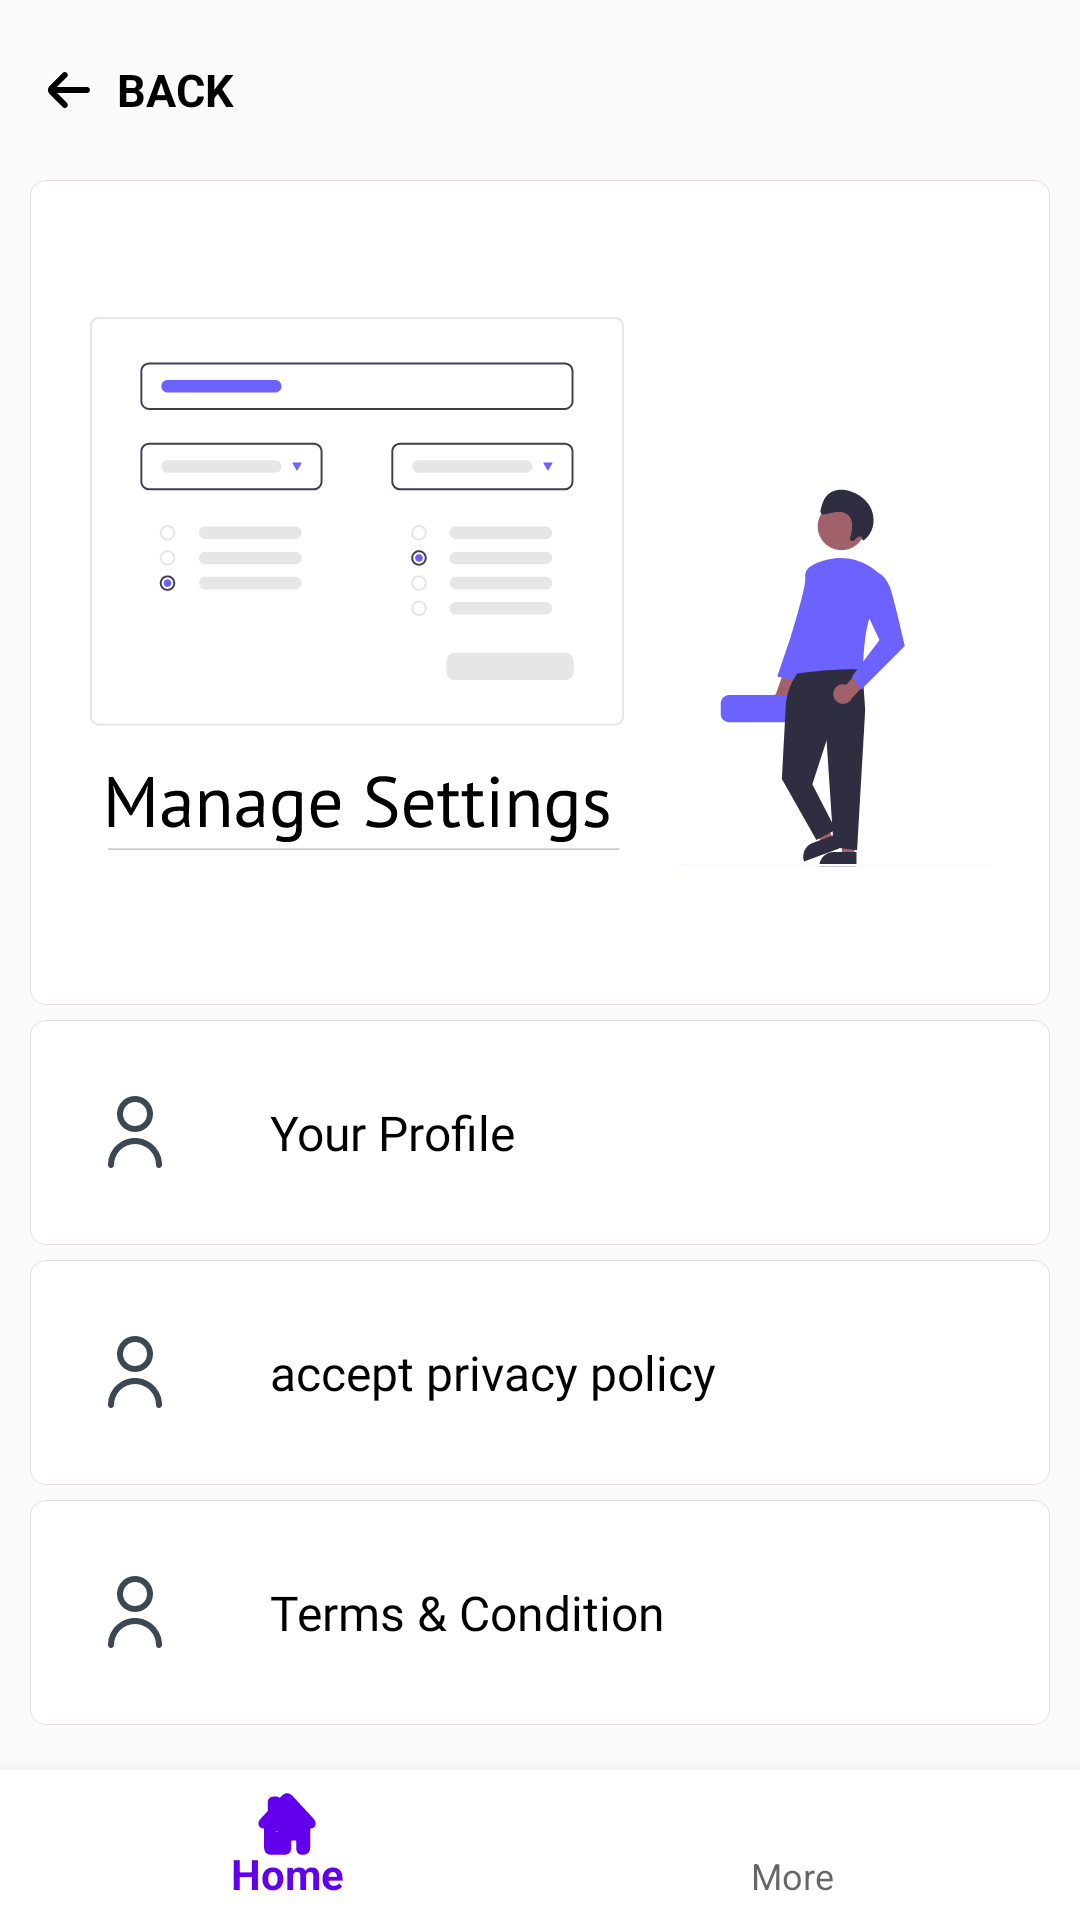

Named icons in this screenshot (1080px x 1920px) and their bounding boxes, (x1, y1, x2, y2):
op user: (108, 1096, 162, 1168), (108, 1336, 162, 1408), (108, 1576, 162, 1648)
